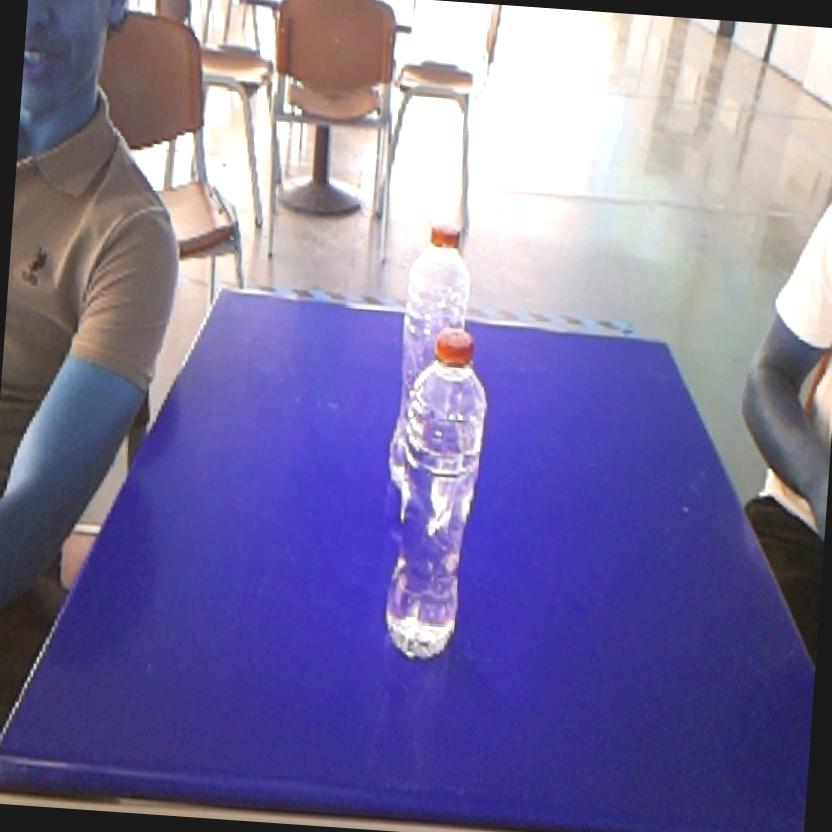no_label: (370, 318, 504, 676), (399, 207, 487, 328)
